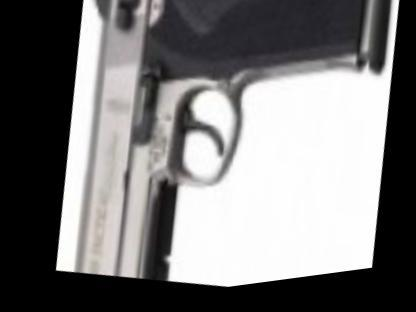pistol: (23, 0, 415, 309)
